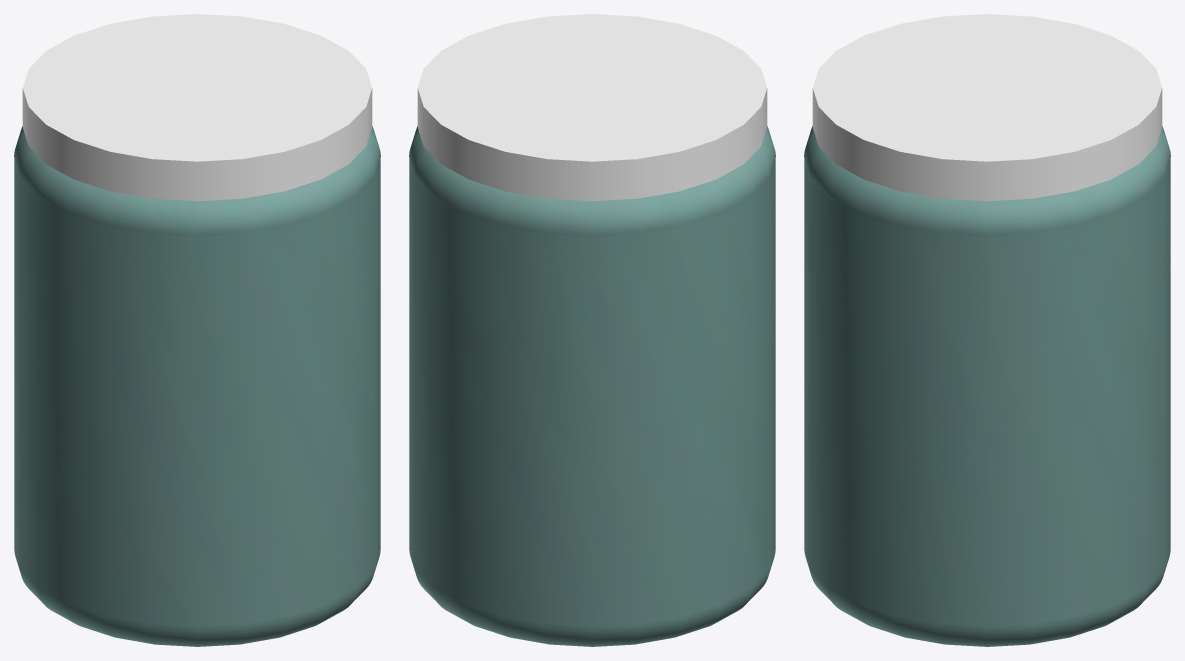
File: jar.fbx
3 renders of one model, left to right at view 1: azimuth 30°, elevation 25°; view 2: azimuth 150°, elevation 25°; view 3: azimuth 270°, elevation 25°, orthographic.
Parts seen in each view (by area): view 1: Material2, Material2.001; view 2: Material2, Material2.001; view 3: Material2, Material2.001.
Boxes of the visible parts, x1=… form: Material2: x1=14, y1=126, x2=380, y2=646; Material2.001: x1=22, y1=14, x2=372, y2=201; Material2: x1=409, y1=126, x2=775, y2=646; Material2.001: x1=417, y1=14, x2=767, y2=201; Material2: x1=804, y1=126, x2=1170, y2=646; Material2.001: x1=812, y1=14, x2=1162, y2=201.
Size of the model in its own units: 1207 by 1790 by 1207.
